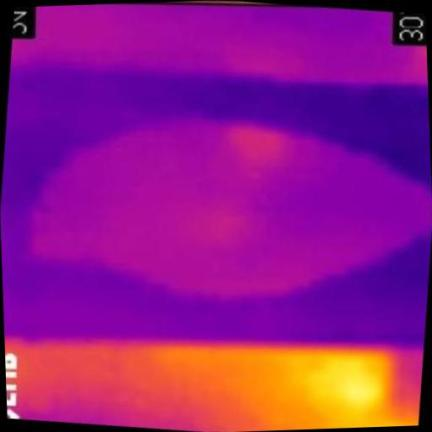mango: (29, 120, 432, 295)
